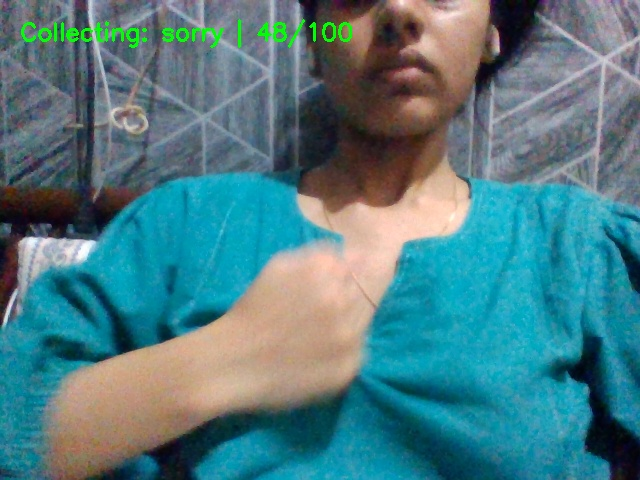sorry: (218, 235, 391, 406)
